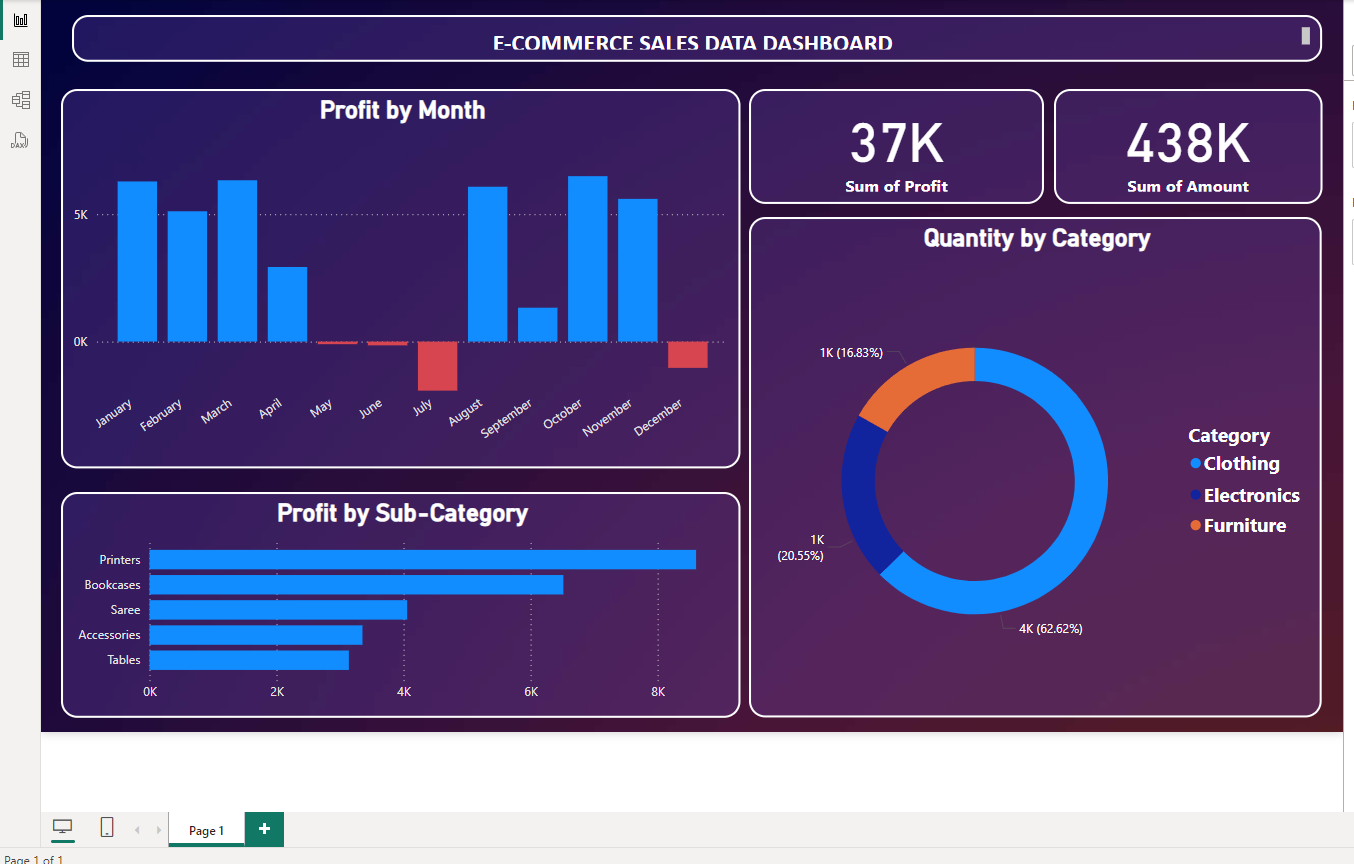

What the dashboard file says about the page in this screenshot:
{"tool":"powerbi","page":{"name":"Page 1","canvas":[1280,720],"ordinal":0},"visuals":[{"type":"textbox","box":[30.8,14.8,1228.6,45.7],"z":0},{"type":"columnChart","title":"Profit by Month","fields":{"Y":["Sum(Details.Profit)"],"Category":["Orders.Order Date.Variation.Date Hierarchy.Month"]},"box":[19.4,87.9,668,373.4],"z":1000},{"type":"clusteredBarChart","title":"Profit by Sub-Category","fields":{"Category":["Details.Sub-Category"],"Y":["Sum(Details.Profit)"]},"box":[19.4,484.1,668,221.5],"z":2000},{"type":"donutChart","title":"Quantity by Category","fields":{"Category":["Details.Category"],"Y":["Sum(Details.Quantity)"]},"box":[696.5,213.5,562.9,492.1],"z":3000},{"type":"card","fields":{"Values":["Sum(Details.Amount)"]},"box":[995.7,87.9,263.8,113],"z":4000},{"type":"card","fields":{"Values":["Sum(Details.Profit)"]},"box":[696.5,87.9,290,113],"z":5000}]}

Visuals, with their boxes in screenshot pixels (x1, y1, x2, y2):
textbox: l=53, t=8, r=1335, b=56
"Profit by Month" columnChart: l=41, t=85, r=738, b=474
"Profit by Sub-Category" clusteredBarChart: l=41, t=498, r=738, b=729
"Quantity by Category" donutChart: l=748, t=216, r=1335, b=729
card - Sum(Details.Amount): l=1060, t=85, r=1335, b=203
card - Sum(Details.Profit): l=748, t=85, r=1050, b=203
